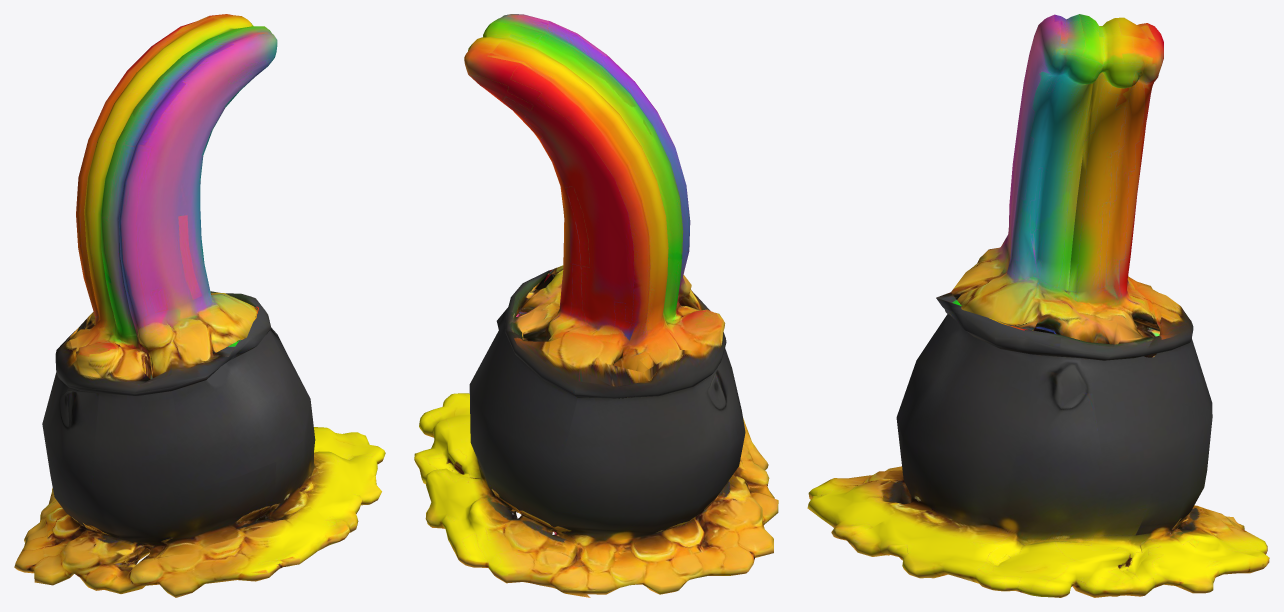
Rendered from Pot-of-Gold.glb.
3 views of the same model, side by side, from view 1: azimuth 30°, elevation 25°; view 2: azimuth 150°, elevation 25°; view 3: azimuth 270°, elevation 25° (orthographic). The views are drawn at different scales.
Parts seen in each view (by area): view 1: Pot-of-Gold; view 2: Pot-of-Gold; view 3: Pot-of-Gold.
Boxes of the visible parts, x1,y1,x2,y2 form: Pot-of-Gold: (14, 14, 385, 597); Pot-of-Gold: (414, 14, 778, 597); Pot-of-Gold: (807, 14, 1269, 597).
Bounding box in the file's own units: 0.1634 × 0.2273 × 0.1643.
Materials: 1 (1 with a texture image).
